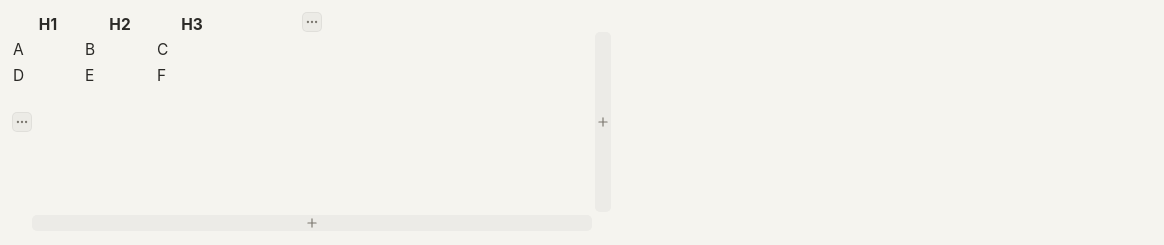
Test case: TableControlsOverlay › actions: 切换表头行
expect the button named "在表格右侧新增列" is shown: met, box [595,32,611,212]
Step 1. Click the button named "当前行操作" → coordinates (22, 122), box [12,112,32,132]
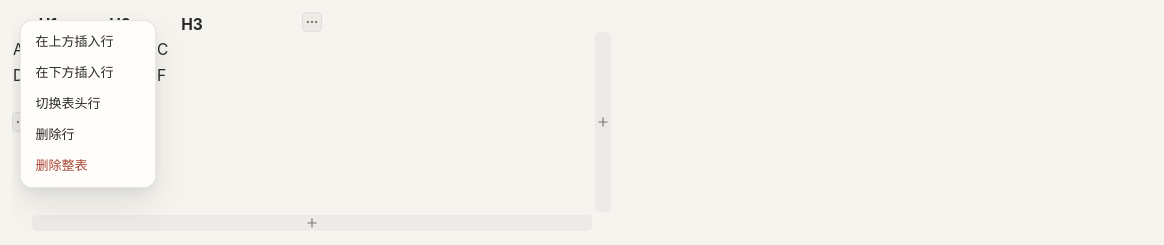
expect the element with class "table-action-menu" is shown: met, box [20,20,156,188]
expect the button "切换表头行" is shown: met
Step 2. Click the button "切换表头行" → coordinates (88, 104), box [27,89,149,120]
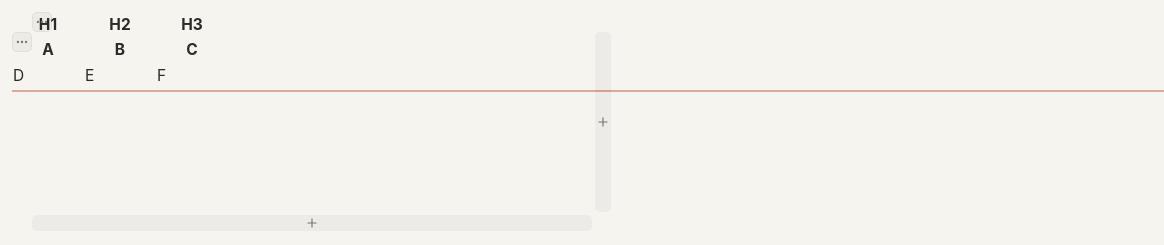
expect the element with class "table-action-menu" is gone: met
